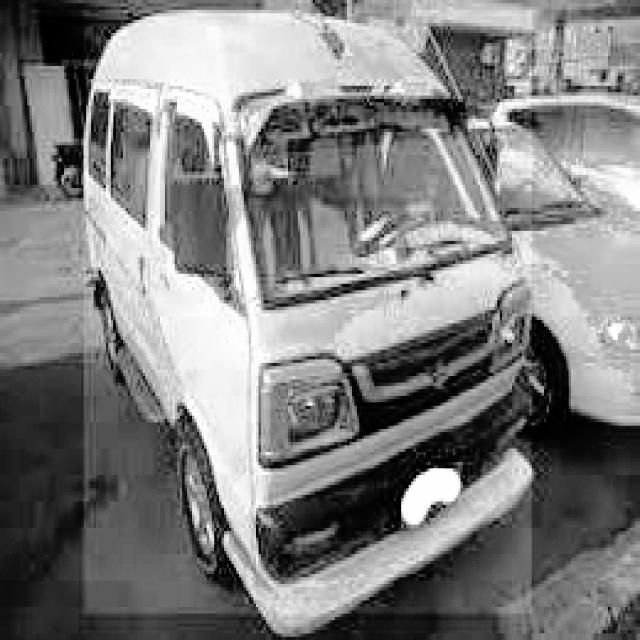LCV: (81, 10, 532, 617)
